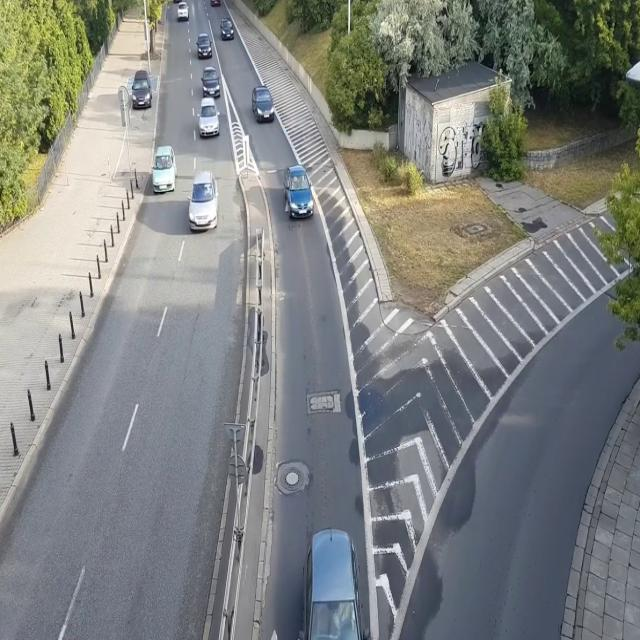car: (298, 526, 371, 640), (187, 171, 219, 231), (284, 165, 314, 219), (151, 146, 177, 192), (251, 86, 275, 125), (198, 97, 220, 138), (131, 70, 152, 109), (201, 65, 220, 100), (195, 32, 212, 59), (218, 17, 234, 40), (177, 2, 190, 20), (210, 0, 222, 6)
